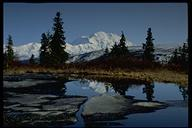mountain: (5, 26, 187, 71)
tree: (40, 11, 71, 67), (139, 27, 159, 70)
water: (6, 70, 189, 123)
